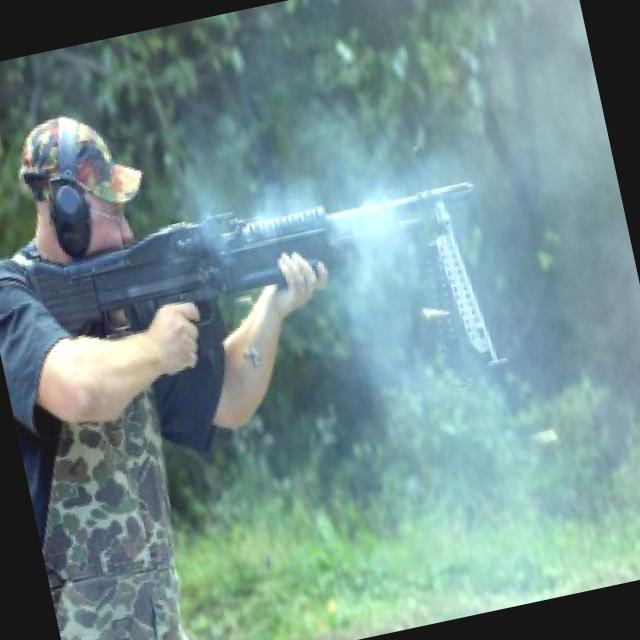long weapon: (0, 129, 514, 359)
